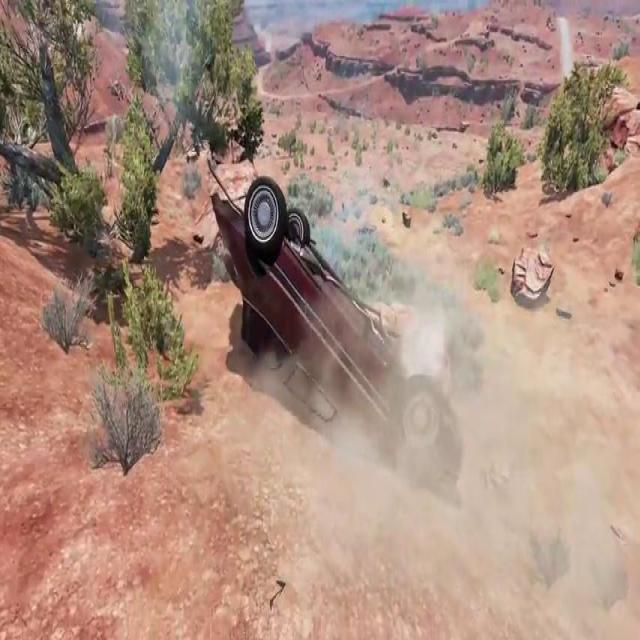severe: (206, 164, 465, 500)
